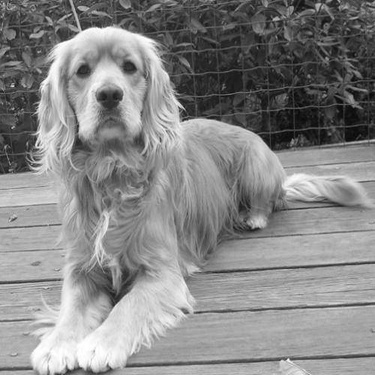dog: (15, 19, 371, 371)
